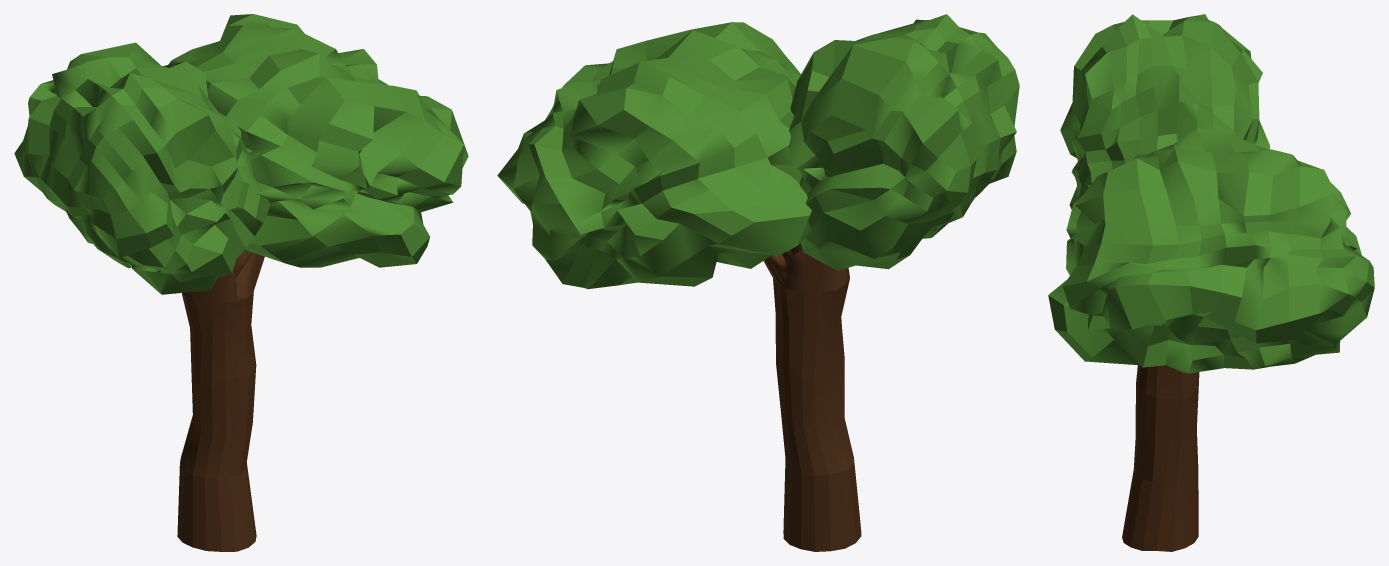
File: Tree4.fbx
3 renders of one model, left to right at view 1: azimuth 30°, elevation 25°; view 2: azimuth 150°, elevation 25°; view 3: azimuth 270°, elevation 25°, orthographic. The views are drawn at different scales.
Visible parts, largest first — view 1: Tree3; view 2: Tree3; view 3: Tree3.
Part boxes in pixels (bbox=[...]): Tree3: bbox=[14, 14, 468, 551]; Tree3: bbox=[497, 14, 1019, 551]; Tree3: bbox=[1048, 14, 1374, 551].
Bounding box in the file's own units: 664 × 786 × 489.
